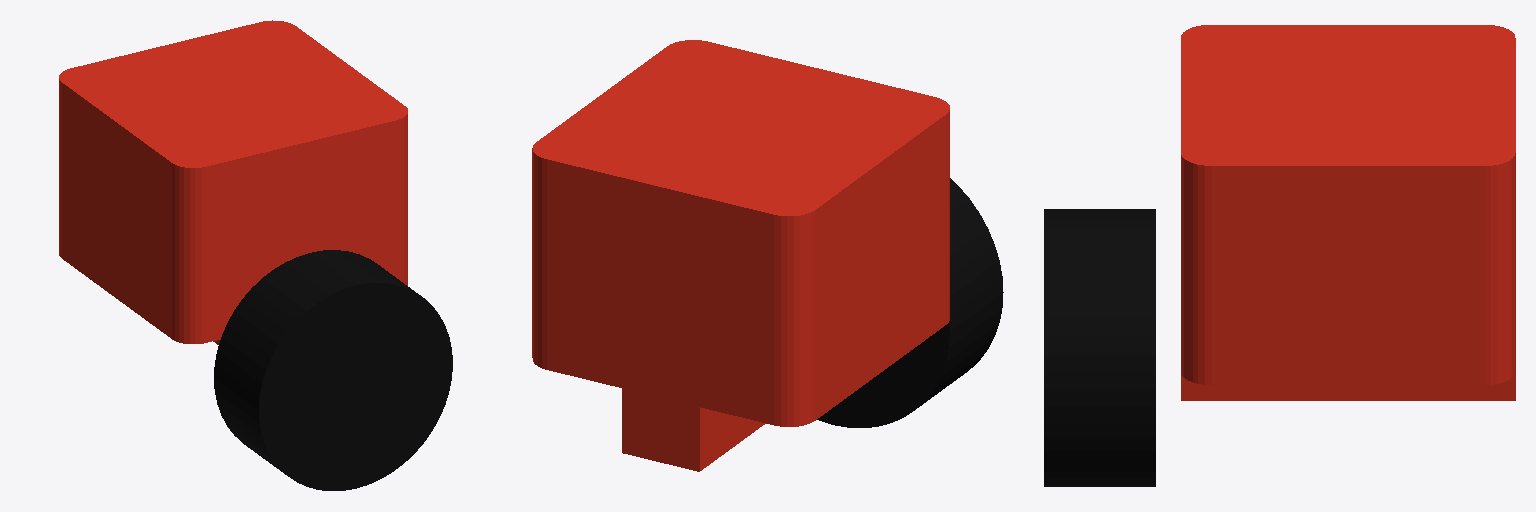
The robot description file, URDF, robot "bala2-fire-simplified":
<?xml version="1.0"?>

<!-- URDF -->
<!-- Specifies physical components of the robot and how they fit together
     Note: ROS standard assumes X-axis is forward/backward for the robot -->

<robot name="bala2-fire-simplified">

  <!-- ===================================================================== -->
  <!-- Links (rigid body components) -->

  <!-- Chassis -->
  <link name="chassis">

    <!-- Specifies how to render the component -->
    <visual>
      <origin xyz="0 0 0" rpy="0 0 0"/>
      <geometry>
        <!-- Load STL file, specify unit conversion to meters -->
        <mesh filename="meshes/chassis.stl" scale="0.001 0.001 0.001"/>
      </geometry>
      <!-- Red color, opaque -->
      <material name="chassis_red">
        <color rgba="0.87 0.23 0.16 1.0"/>
      </material>
    </visual>

    <!-- Provides collision body (can be different than <visual>)-->
    <collision>
      <origin xyz="0 0 0" rpy="0 0 0"/>
      <geometry>
        <mesh filename="meshes/chassis.stl" scale="0.001 0.001 0.001"/>
      </geometry>
    </collision>

    <!-- Defines the mass properties of the body -->
    <inertial>
      <origin xyz="0.000000 0.000000 0.017000" rpy="0 0 0"/>
      <mass value="0.127000"/>
      <inertia ixx="0.000056790"
               iyy="0.000054532"
               izz="0.000058722"
               ixy="0.000000000"
               ixz="0.000000000"
               iyz="0.000000000"/>
    </inertial>
  </link>

  <!-- Left wheel -->
  <link name="wheel_left">

    <visual>
      <origin xyz="0 0 0" rpy="0 0 0"/>
      <geometry>
        <mesh filename="meshes/wheel_left.stl" scale="0.001 0.001 0.001"/>
      </geometry>
      <material name="wheel_black">
        <color rgba="0.1 0.1 0.1 1.0"/>
      </material>
    </visual>

    <collision>
      <origin xyz="0 0 0" rpy="0 0 0"/>
      <geometry>
        <mesh filename="meshes/wheel_left.stl" scale="0.001 0.001 0.001"/>
      </geometry>
    </collision>

    <inertial>
      <origin xyz="0.000000 0.000000 0.000000" rpy="0 0 0"/>
      <mass value="0.017000"/>
      <inertia ixx="0.000002611"
               iyy="0.000004303"
               izz="0.000002611"
               ixy="0.000000000"
               ixz="0.000000000"
               iyz="0.000000000"/>
    </inertial>
  </link>

  <!-- Right wheel -->
  <link name="wheel_right">

    <visual>
      <origin xyz="0 0 0" rpy="0 0 0"/>
      <geometry>
        <mesh filename="meshes/wheel_right.stl" scale="0.001 0.001 0.001"/>
      </geometry>
      <material name="wheel_black"/>
    </visual>

    <collision>
      <origin xyz="0 0 0" rpy="0 0 0"/>
      <geometry>
        <mesh filename="meshes/wheel_right.stl" scale="0.001 0.001 0.001"/>
      </geometry>
    </collision>

    <inertial>
      <origin xyz="0.000000 0.000000 0.000000" rpy="0 0 0"/>
      <mass value="0.017000"/>
      <inertia ixx="0.000002611"
               iyy="0.000004303"
               izz="0.000002611"
               ixy="0.000000000"
               ixz="0.000000000"
               iyz="0.000000000"/>
    </inertial>
  </link>

  <!-- ===================================================================== -->
  <!-- Joints (how the links are connected) -->

  <!-- Left wheel joint -->
  <!-- Type options:
       fixed: rigid attachment (no motion)
       revolute: rotational with angle limits
       continuous: rotational without limits
       prismatic: linear translation with limits
       planar: 2D motion in a plane
       floating: full 6-DoF motion -->
  <joint name="left_wheel_joint" type="continuous">
    <!-- Parent stays still (in joints frame of reference), child moves -->
    <parent link="chassis"/>
    <child  link="wheel_left"/>

    <!-- Joint's origin is (x, y, z) meters from the parent's frame origin -->
    <!-- and rotated (r, p, y) radians -->
    <origin xyz="0 0.040 0" rpy="0 0 0"/>

    <!-- Child can freely rotate around the Y-axis in the joint's frame -->
    <axis xyz="0 1 0"/>

    <!-- Passive forces acting on the joint -->
    <dynamics damping="0.001" friction="0.001"/>
  </joint>

  <!-- Right wheel joint -->
  <joint name="right_wheel_joint" type="continuous">
    <parent link="chassis"/>
    <child  link="wheel_right"/>
    <origin xyz="0 -0.040 0" rpy="0 0 0"/>
    <axis xyz="0 1 0"/>
    <dynamics damping="0.001" friction="0.001"/>
  </joint>

</robot>

--- What the picture shows (computed from the rendered views, not written in the file) ---
The picture shows the robot from 3 angles, left to right: view 1: azimuth 30°, elevation 25°; view 2: azimuth 150°, elevation 25°; view 3: azimuth 270°, elevation 25°; orthographic projection.
Model bala2-fire-simplified with 3 links and 2 joints (2 continuous), rooted at chassis, posed all joints at 0.
Links seen in each view (by area): view 1: chassis, wheel_right; view 2: chassis, wheel_right; view 3: chassis, wheel_right.
Link boxes in pixels (x1,y1,x2,y2): chassis: (59,20,407,344); wheel_right: (214,250,452,490); chassis: (532,40,949,471); wheel_right: (817,178,1003,427); chassis: (1181,25,1515,400); wheel_right: (1044,209,1155,486).
Size in the robot's own frame: 0.054 by 0.076 by 0.0675 metres.
2 mesh visuals loaded from 3 distinct referenced files (2 binary STL); not drawn: 1 (reference not matched to a file when rendering).
